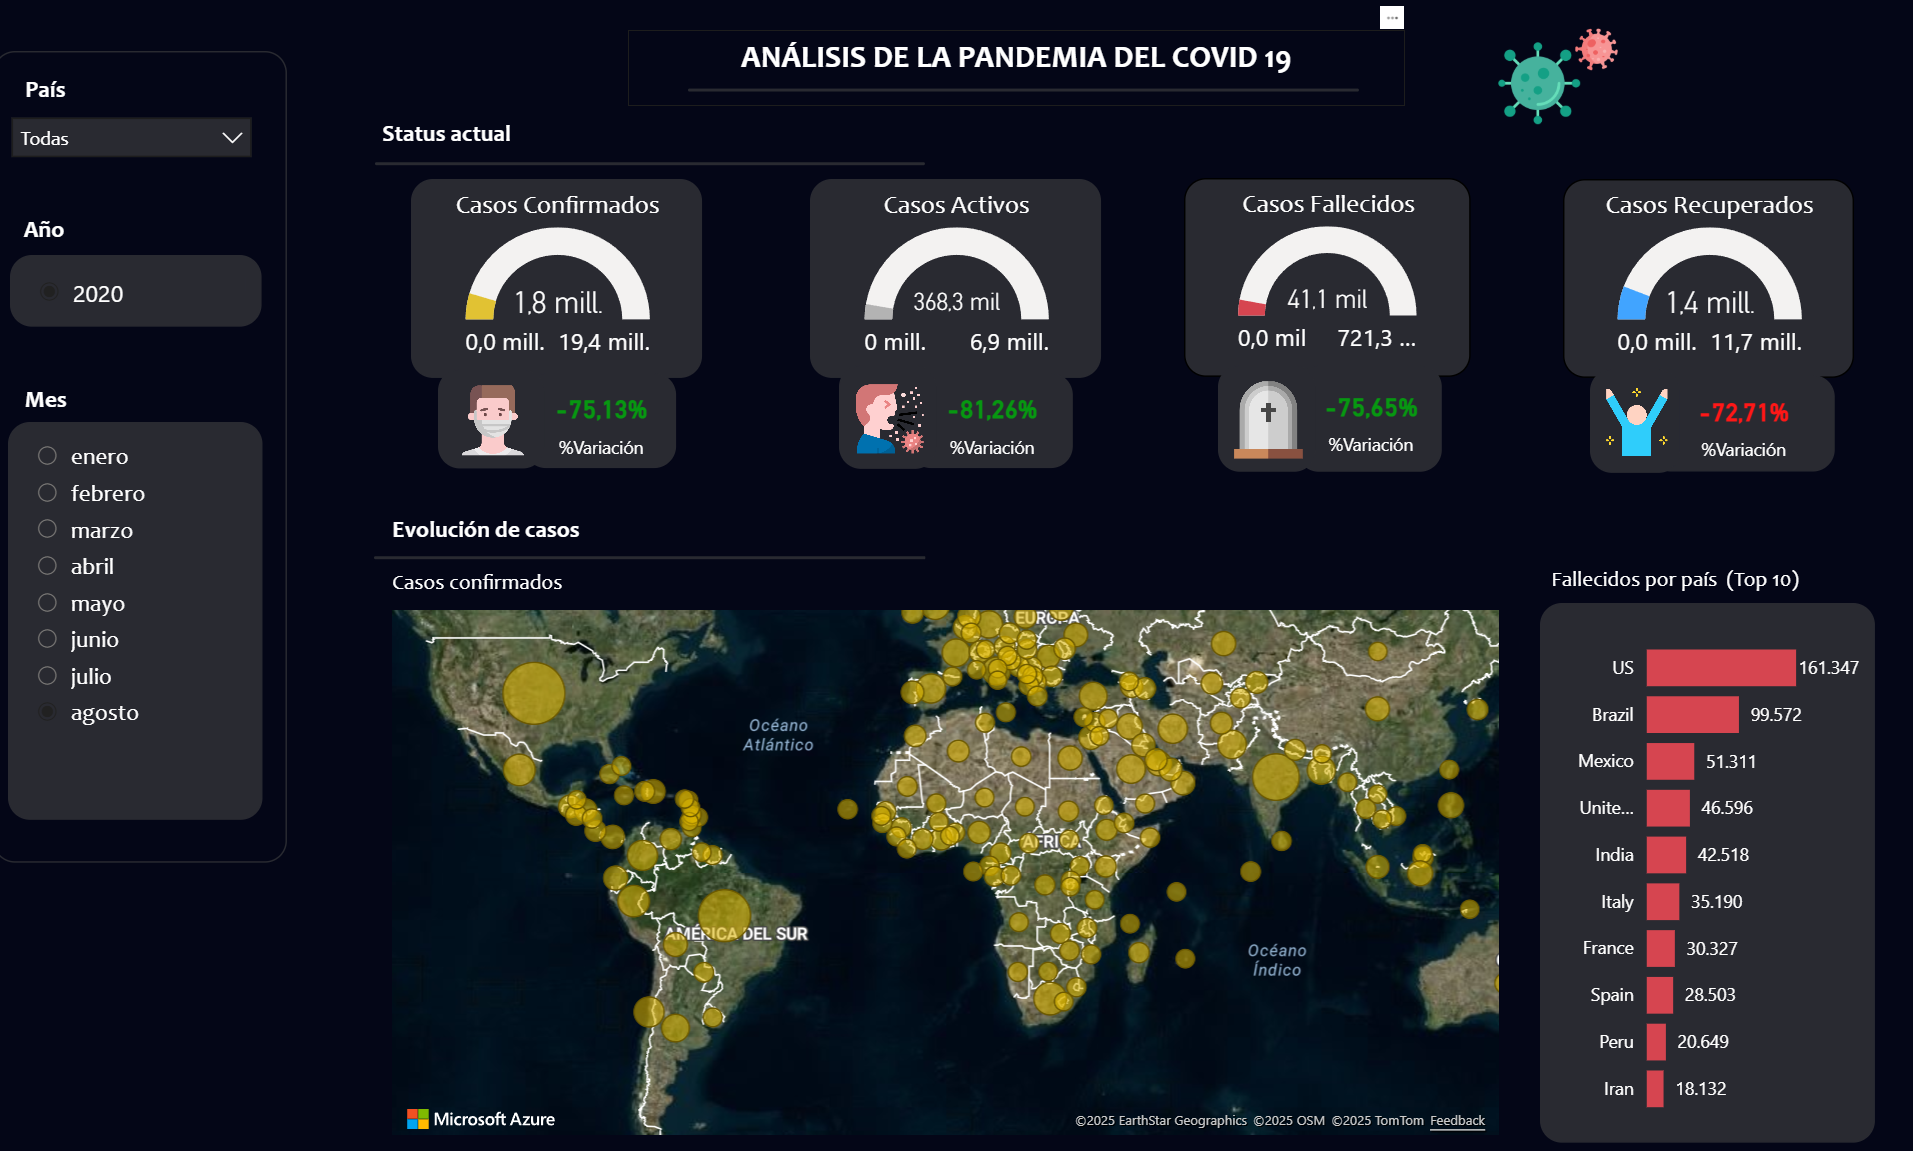

Layout of this report page (visuals, bound fields, positions):
{"tool":"powerbi","page":{"name":"PRINCIPAL","canvas":[1380,800],"ordinal":0},"visuals":[{"type":"textbox","box":[18.8,36.9,171.6,737.1],"z":0},{"type":"textbox","box":[470.8,24.2,530.8,51.4],"z":1000},{"type":"gauge","title":"Casos Confirmados","fields":{"MaxValue":["COVID19 - ACTUAL.CONFIRMADOS_U_S"],"Y":["COVID19 - ACTUAL.DIF_Confirmados_Mensual"]},"box":[265,124.2,198.7,136],"z":2000},{"type":"gauge","title":"Casos Fallecidos","fields":{"MaxValue":["COVID19 - ACTUAL.MUERTOS_U_S"],"Y":["COVID19 - ACTUAL.DIF_Muertos_Mensual"]},"box":[793.5,124.1,196,136],"z":3000},{"type":"gauge","title":"Casos Recuperados","fields":{"MaxValue":["COVID19 - ACTUAL.RECUPERADOS_U_S"],"Y":["COVID19 - ACTUAL.DIF_Recuperados_Mensual"]},"box":[1053,124.2,198.7,136],"z":4000},{"type":"azureMap","title":"Casos confirmados","fields":{"Category":["LOCATIONS.Country/Region"],"Size":["COVID19 - ACTUAL.CONFIRMADOS_U_S"]},"box":[247.6,379.7,767.3,392],"z":5000},{"type":"clusteredBarChart","fields":{"Category":["LOCATIONS.Country/Region"],"Y":["COVID19 - ACTUAL.MUERTOS_U_S"]},"box":[1037,402.7,229.2,369],"z":6000},{"type":"slicer","fields":{"Values":["MiCalendarioAuto.Date.Variación.Jerarquía de fechas.Mes"]},"box":[31.1,315.9,145,272.1],"z":7000},{"type":"slicer","fields":{"Values":["MiCalendarioAuto.Date.Variación.Jerarquía de fechas.Año"]},"box":[30.1,196.9,145.6,49.9],"z":8000},{"type":"textbox","box":[18.6,164.6,69.8,42.9],"z":9000},{"type":"textbox","box":[20,281.2,69.3,42.7],"z":10000},{"type":"slicer","fields":{"Values":["LOCATIONS.Country/Region"]},"box":[17.4,93,168.2,61.5],"z":11000},{"type":"textbox","box":[14.5,68.9,71.7,44.4],"z":12000},{"type":"card","fields":{"Values":["COVID19 - ACTUAL.%Var_Confirmados_Mensual"]},"box":[342.3,256.8,103.5,65.5],"z":13000},{"type":"card","fields":{"Values":["COVID19 - ACTUAL.%Var_Muertos_Mensual"]},"box":[870.9,251.5,99.1,73.5],"z":14000},{"type":"card","fields":{"Values":["COVID19 - ACTUAL.%Var_Recuperados_Mensual"]},"box":[1109.5,259.1,122.4,66.3],"z":15000},{"type":"gauge","title":"Casos Activos","fields":{"MaxValue":["COVID19 - ACTUAL.ACTIVOS_U_S"],"Y":["COVID19 - ACTUAL.DIF_Activos_Mensual"]},"box":[538.3,124.2,198.7,136],"z":16000},{"type":"card","fields":{"Values":["COVID19 - ACTUAL.%Var_Activos_Mensual"]},"box":[605.9,256.8,111.5,65.5],"z":17000},{"type":"textbox","box":[241,78.5,145.3,45.3],"z":18000},{"type":"shape","box":[241,106.5,376,14.7],"z":19000},{"type":"textbox","box":[247.7,337.6,198.7,45.3],"z":20000},{"type":"shape","box":[239.7,364.2,377.3,14.7],"z":21000},{"type":"image","box":[1003.6,26.1,66.2,66.2],"z":22000},{"type":"image","box":[1056.1,12.3,38.8,47.5],"z":23000},{"type":"shape","box":[511.6,58,458.8,13.8],"z":24000},{"type":"image","box":[816.8,251.5,67.3,72.6],"z":25000},{"type":"image","box":[558,251.5,67.3,70.8],"z":26000},{"type":"image","box":[283.9,254.2,73.5,68.1],"z":27000},{"type":"textbox","box":[1039.7,371.8,199.1,45.1],"z":28000},{"type":"image","box":[1072.3,259.1,61.5,66.3],"z":29000},{"type":"textbox","box":[1036.6,771.3,255,28.7],"z":30000}]}

Visuals, with their boxes on the page's 1380x800 design canvas (x1, y1, x2, y2). These are canvas units, not pixel positions in the 1913x1151 screenshot, which may show the page scaled, cropped or inside an application window:
textbox: <bbox>19, 37, 190, 774</bbox>
textbox: <bbox>471, 24, 1002, 76</bbox>
"Casos Confirmados" gauge: <bbox>265, 124, 464, 260</bbox>
"Casos Fallecidos" gauge: <bbox>794, 124, 990, 260</bbox>
"Casos Recuperados" gauge: <bbox>1053, 124, 1252, 260</bbox>
"Casos confirmados" azureMap: <bbox>248, 380, 1015, 772</bbox>
clusteredBarChart - LOCATIONS.Country/Region x COVID19 - ACTUAL.MUERTOS_U_S: <bbox>1037, 403, 1266, 772</bbox>
slicer - MiCalendarioAuto.Date.Variación.Jerarquía de fechas.Mes: <bbox>31, 316, 176, 588</bbox>
slicer - MiCalendarioAuto.Date.Variación.Jerarquía de fechas.Año: <bbox>30, 197, 176, 247</bbox>
textbox: <bbox>19, 165, 88, 208</bbox>
textbox: <bbox>20, 281, 89, 324</bbox>
slicer - LOCATIONS.Country/Region: <bbox>17, 93, 186, 154</bbox>
textbox: <bbox>14, 69, 86, 113</bbox>
card - COVID19 - ACTUAL.%Var_Confirmados_Mensual: <bbox>342, 257, 446, 322</bbox>
card - COVID19 - ACTUAL.%Var_Muertos_Mensual: <bbox>871, 252, 970, 325</bbox>
card - COVID19 - ACTUAL.%Var_Recuperados_Mensual: <bbox>1110, 259, 1232, 325</bbox>
"Casos Activos" gauge: <bbox>538, 124, 737, 260</bbox>
card - COVID19 - ACTUAL.%Var_Activos_Mensual: <bbox>606, 257, 717, 322</bbox>
textbox: <bbox>241, 78, 386, 124</bbox>
shape: <bbox>241, 106, 617, 121</bbox>
textbox: <bbox>248, 338, 446, 383</bbox>
shape: <bbox>240, 364, 617, 379</bbox>
image: <bbox>1004, 26, 1070, 92</bbox>
image: <bbox>1056, 12, 1095, 60</bbox>
shape: <bbox>512, 58, 970, 72</bbox>
image: <bbox>817, 252, 884, 324</bbox>
image: <bbox>558, 252, 625, 322</bbox>
image: <bbox>284, 254, 357, 322</bbox>
textbox: <bbox>1040, 372, 1239, 417</bbox>
image: <bbox>1072, 259, 1134, 325</bbox>
textbox: <bbox>1037, 771, 1292, 800</bbox>
